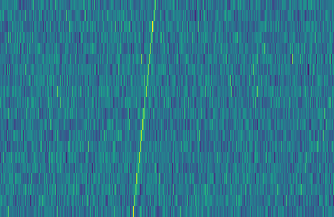signal: (128, 0, 160, 217)
